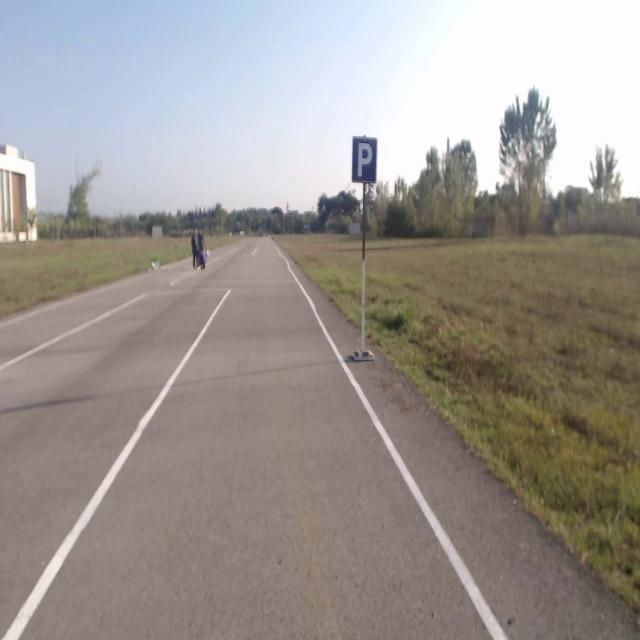park: (351, 137, 377, 184)
